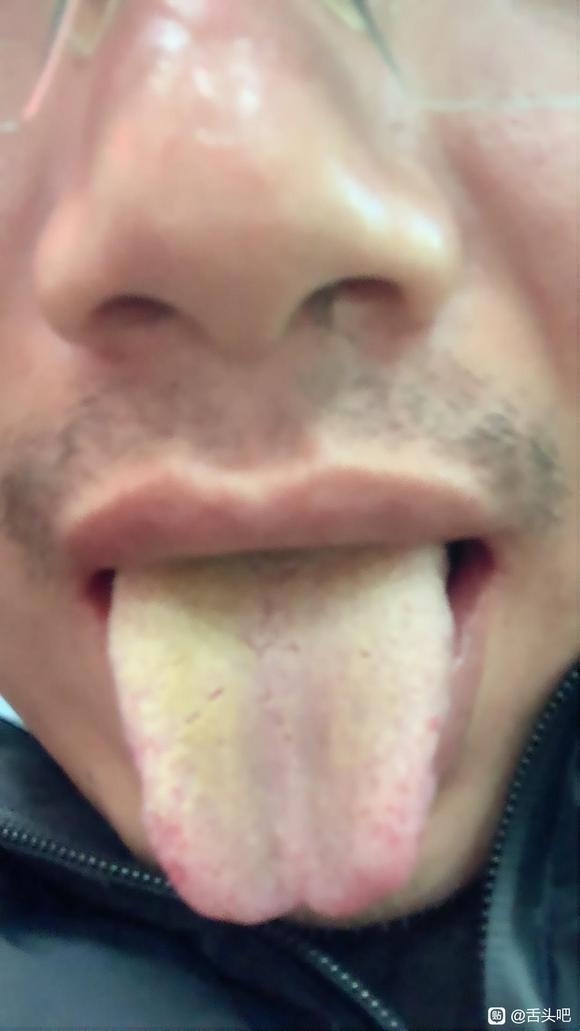huangtaishe: (109, 543, 455, 925)
xinfeiao: (229, 871, 355, 925)
